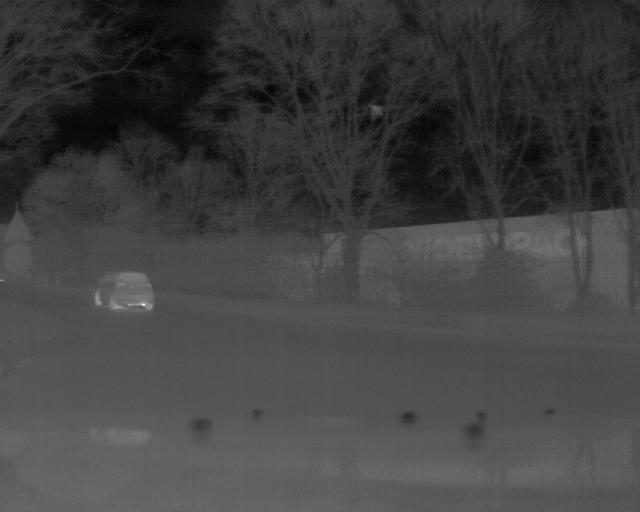car: (92, 269, 155, 314)
